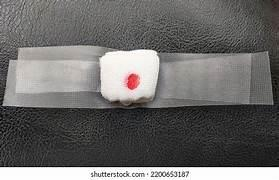cotton: (100, 50, 159, 105), (16, 60, 98, 93), (16, 60, 93, 91)
